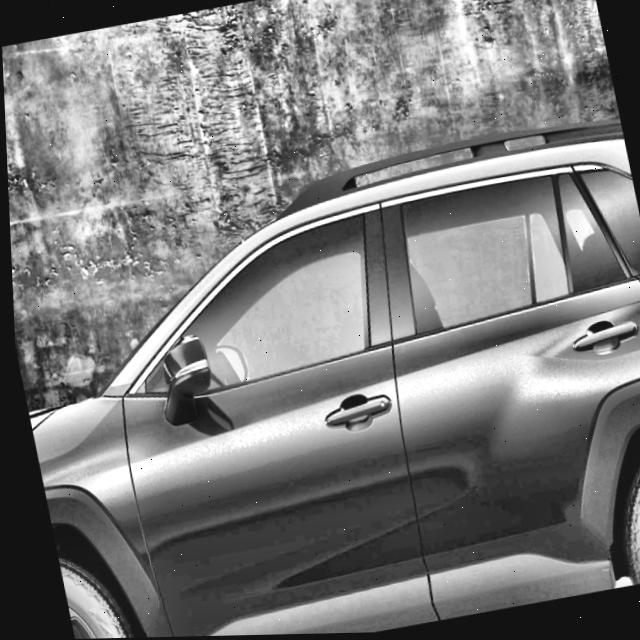light_vehicle: (4, 115, 640, 640)
